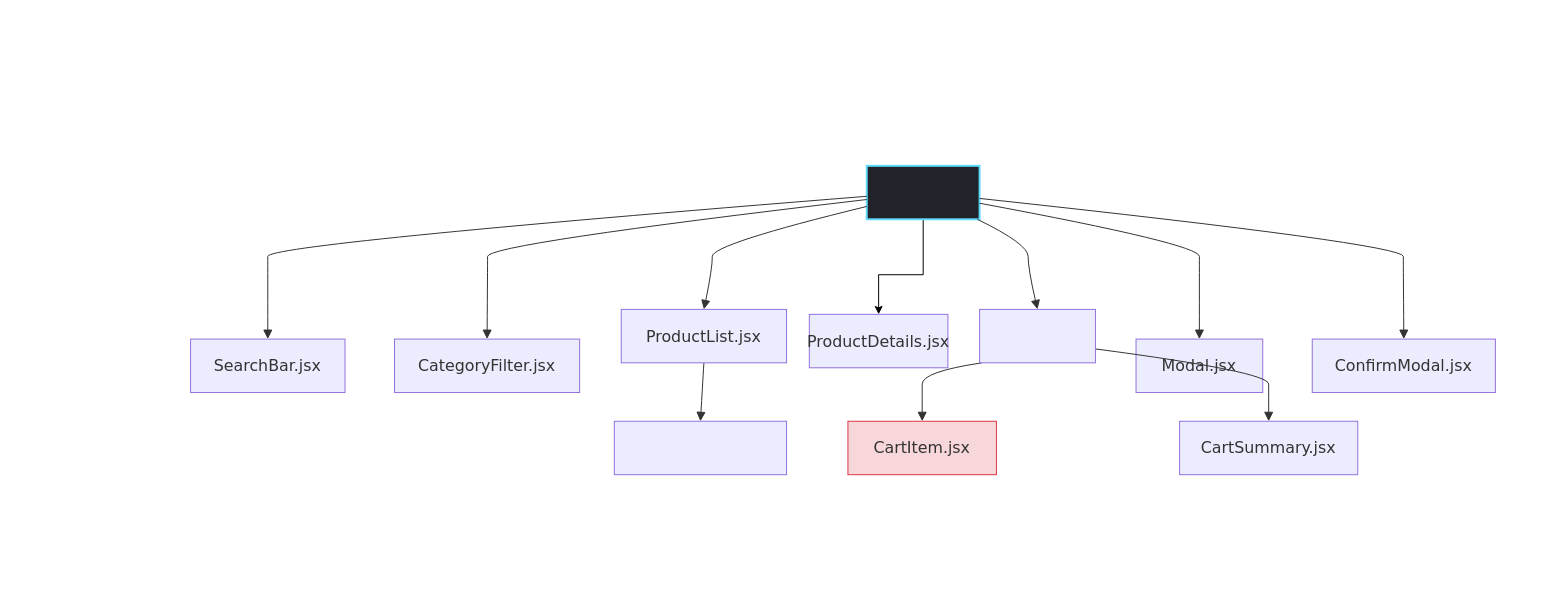
The diagram is 1546 pixels wide and 604 high, and some of its shapes have lost their labels. The centre of each missing label's shape, as x and y in pixels:
App.jsx: (x=922, y=192)
Cart.jsx: (x=1037, y=335)
ProductCard.jsx: (x=700, y=447)
